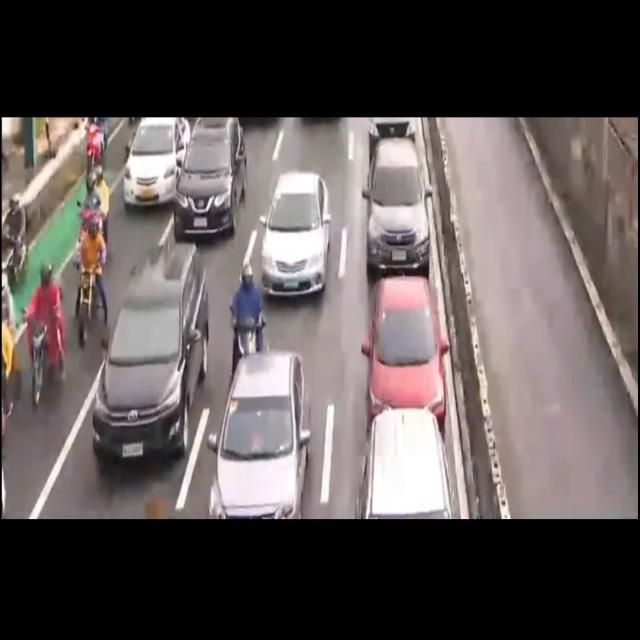Motorcycle: (27, 246, 68, 406), (74, 210, 108, 338), (230, 262, 264, 366), (0, 186, 29, 298), (80, 157, 111, 244)
SUV: (97, 246, 204, 465), (357, 409, 455, 517), (366, 145, 432, 276), (176, 115, 242, 238)
Sedan: (204, 352, 310, 518), (363, 271, 449, 425), (261, 170, 325, 298), (117, 120, 191, 206)
